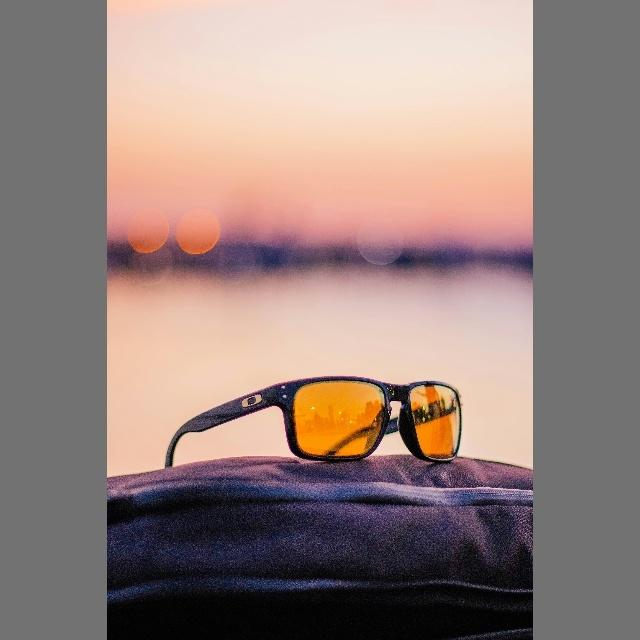Sunglasses: (274, 374, 470, 466)
